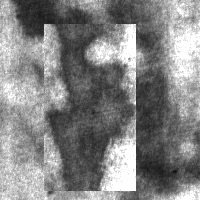patches: (44, 24, 136, 191), (112, 66, 198, 196), (103, 1, 168, 63), (8, 1, 104, 37), (36, 128, 71, 162)
